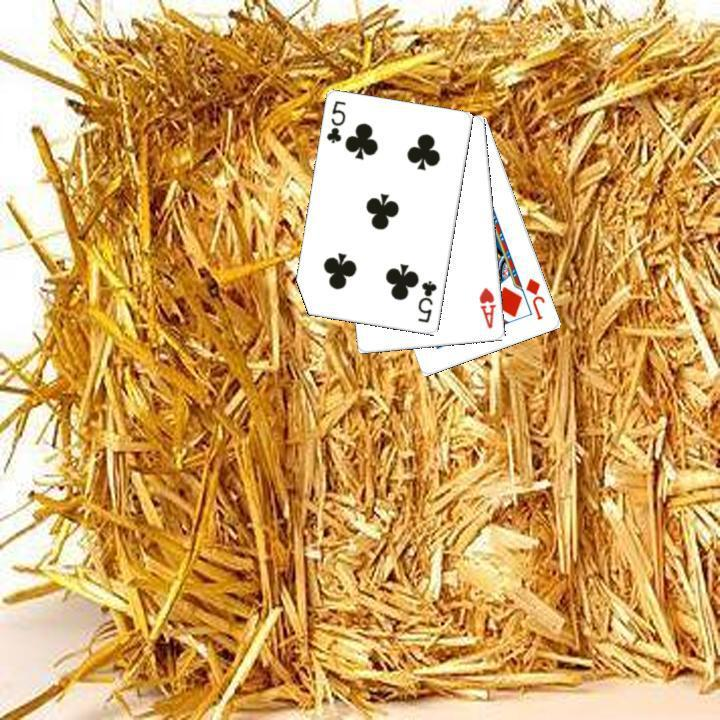5: (322, 97, 348, 146), (414, 277, 439, 325)
A: (475, 283, 498, 331)
J: (522, 274, 547, 322)
